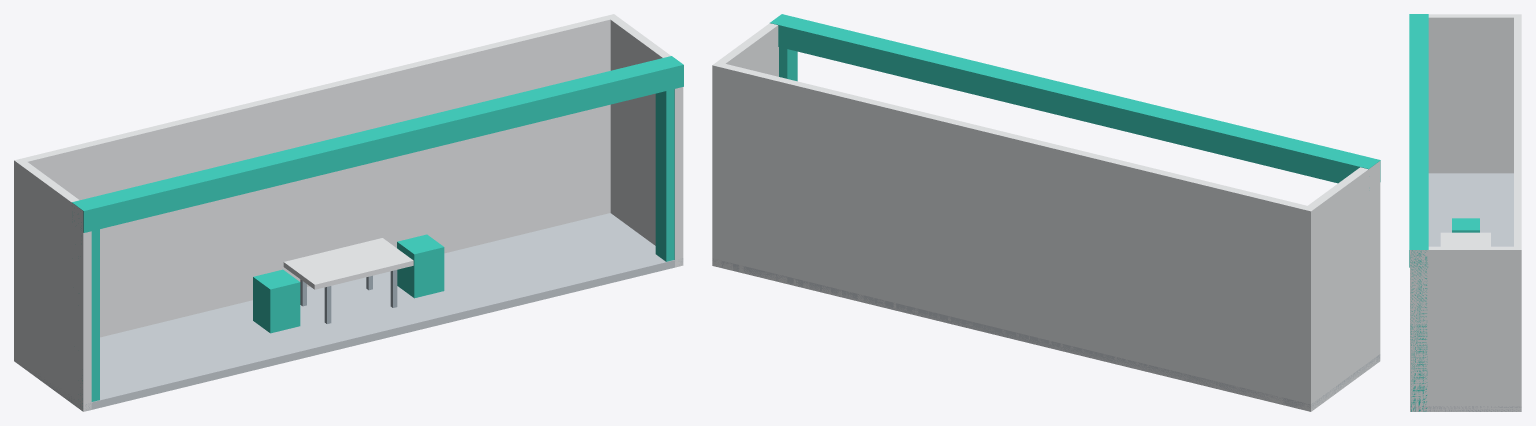
The picture shows the model from 3 angles, left to right: view 1: azimuth 30°, elevation 25°; view 2: azimuth 150°, elevation 25°; view 3: azimuth 270°, elevation 25°; orthographic projection. The views are drawn at different scales.
Visible parts, largest first — view 1: Exhibition Booth Concept; view 2: Exhibition Booth Concept; view 3: Exhibition Booth Concept.
Part boxes in pixels (x1,y1,x2,y2): Exhibition Booth Concept: (14, 14, 683, 411); Exhibition Booth Concept: (712, 14, 1380, 411); Exhibition Booth Concept: (1409, 14, 1521, 411).
Bounding box in the file's own units: 10 × 3.2 × 2.01.
